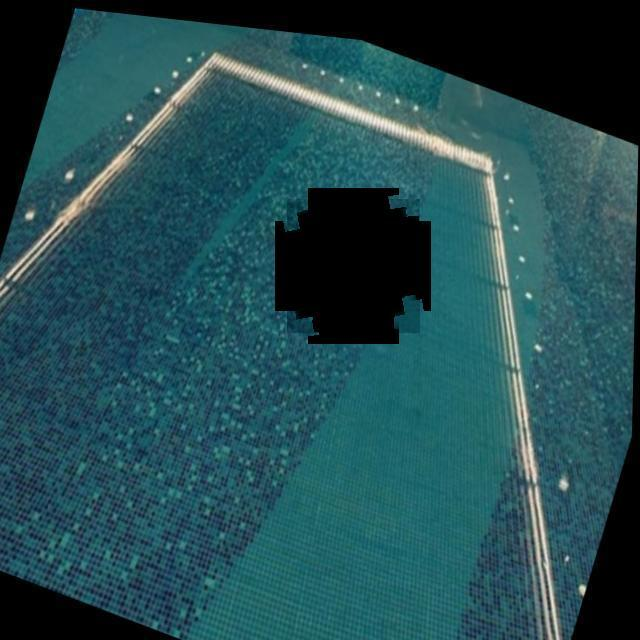swimming: (287, 199, 420, 333)
